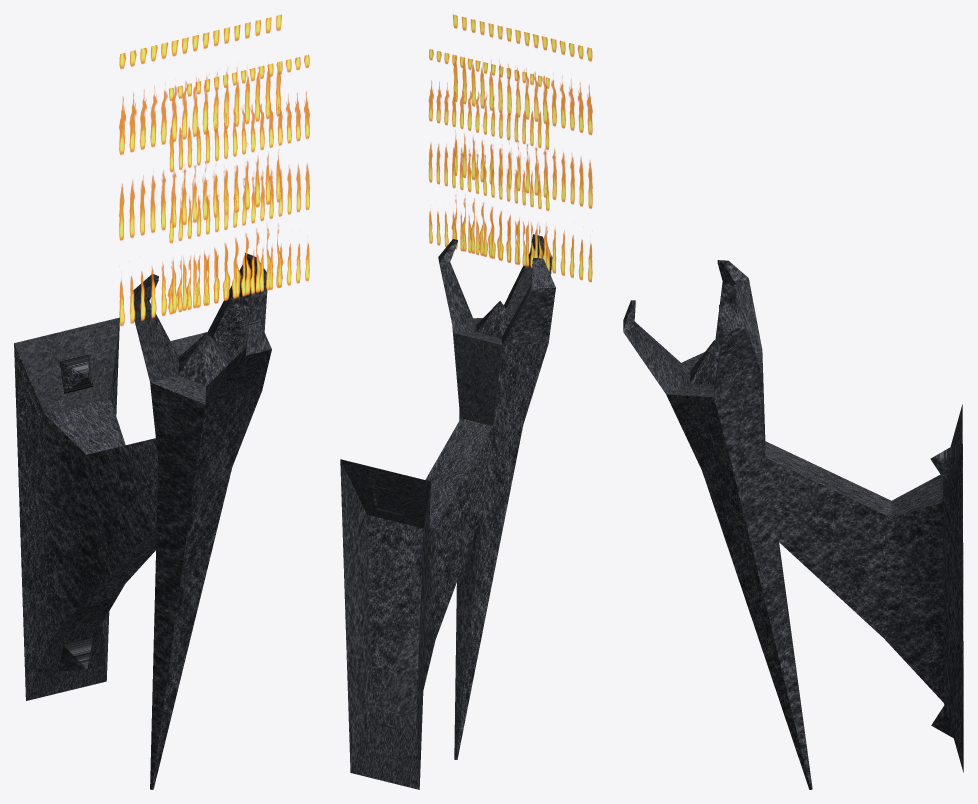
Rendered from mm9_deco_torchmetalorange.glb.
The picture shows the model from 3 angles, left to right: view 1: azimuth 30°, elevation 25°; view 2: azimuth 150°, elevation 25°; view 3: azimuth 270°, elevation 25°; orthographic projection. The views are drawn at different scales.
Parts seen in each view (by area): view 1: Torchmetalorange; view 2: Torchmetalorange; view 3: Torchmetalorange.
Part boxes in pixels (bbox=[...]): Torchmetalorange: bbox=[14, 14, 309, 789]; Torchmetalorange: bbox=[340, 14, 592, 789]; Torchmetalorange: bbox=[623, 260, 963, 789].
Size of the model in its own units: 0.35 by 1.38 by 0.5817.
2 materials, 2 textured.
